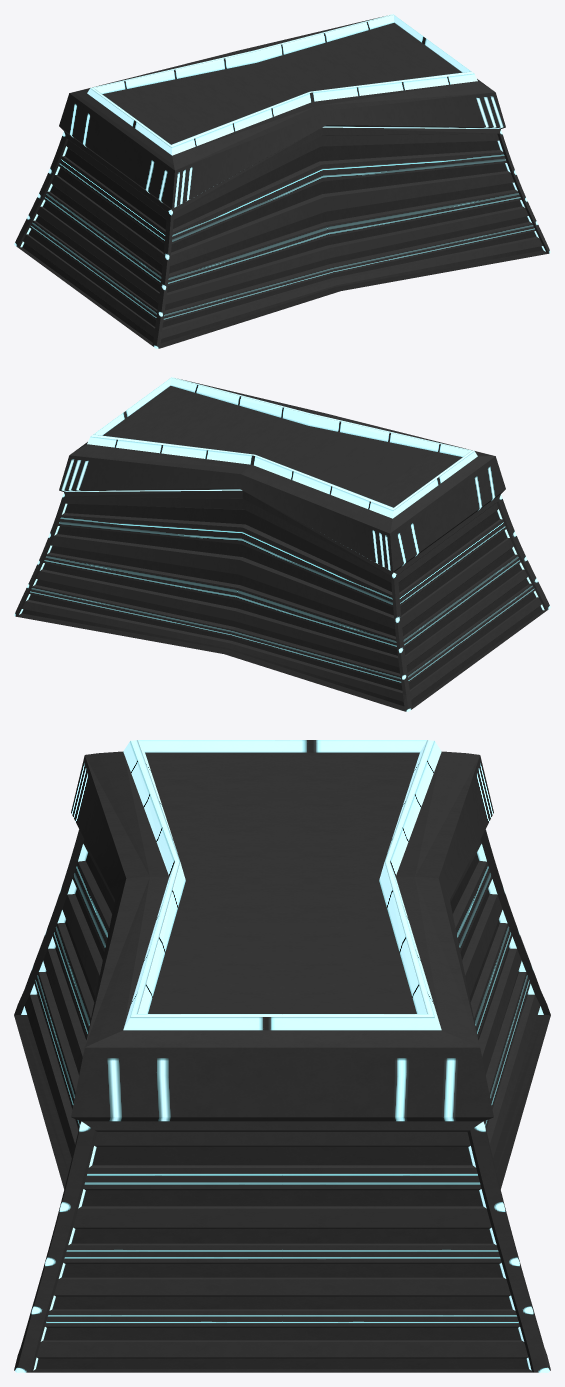
The model's file is bldg_bOw-REC_000.FBX.
3 renders of one model, top to bottom at view 1: azimuth 30°, elevation 25°; view 2: azimuth 150°, elevation 25°; view 3: azimuth 270°, elevation 25°, orthographic. The views are drawn at different scales.
Parts seen in each view (by area): view 1: bldg_bOw-RECT_000; view 2: bldg_bOw-RECT_000; view 3: bldg_bOw-RECT_000.
Boxes of the visible parts, x1,y1,x2,y2 form: bldg_bOw-RECT_000: [14, 14, 550, 348]; bldg_bOw-RECT_000: [14, 377, 550, 711]; bldg_bOw-RECT_000: [14, 740, 550, 1372].
Size of the model in its own units: 168 by 71.86 by 106.
Materials: 1 (1 with a texture image).
